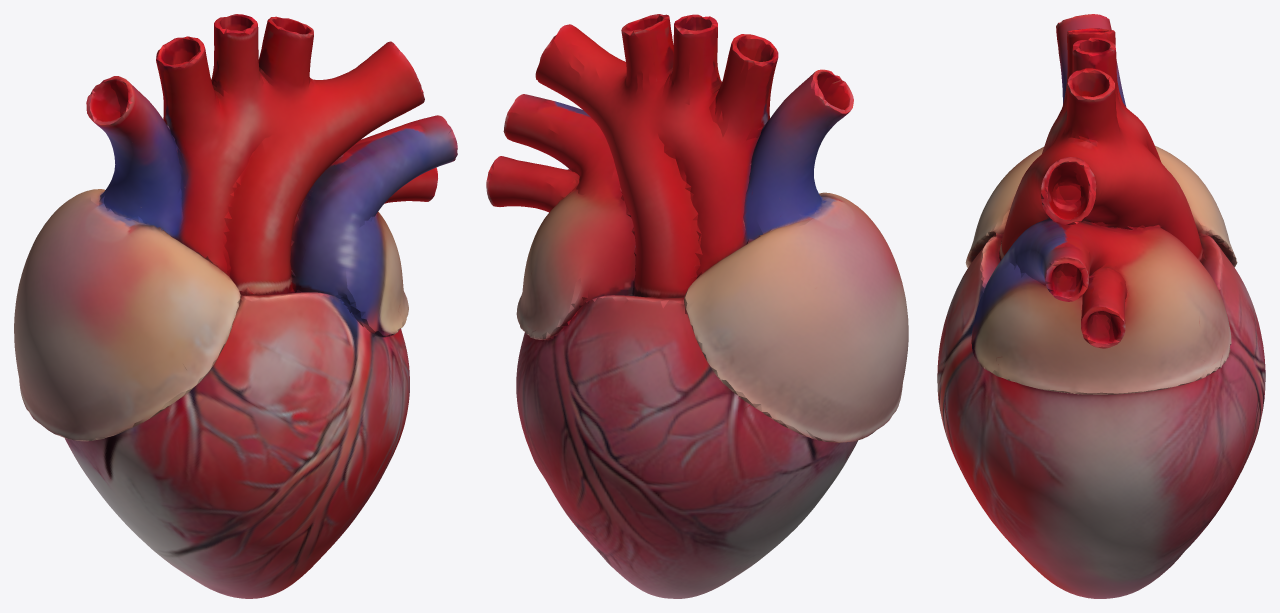
Rendered from cat_heart.glb.
3 views of the same model, side by side, from view 1: azimuth 30°, elevation 25°; view 2: azimuth 150°, elevation 25°; view 3: azimuth 270°, elevation 25° (orthographic). The views are drawn at different scales.
Parts seen in each view (by area): view 1: model; view 2: model; view 3: model.
Boxes of the visible parts, x1,y1,x2,y2 form: model: (14,14,457,598); model: (486,14,908,598); model: (937,14,1265,598).
Size of the model in its own units: 1.37 by 1.9 by 1.04.
1 material, 1 textured.
